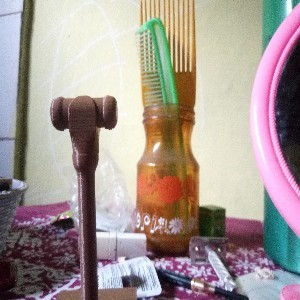palu: (49, 94, 119, 300)
